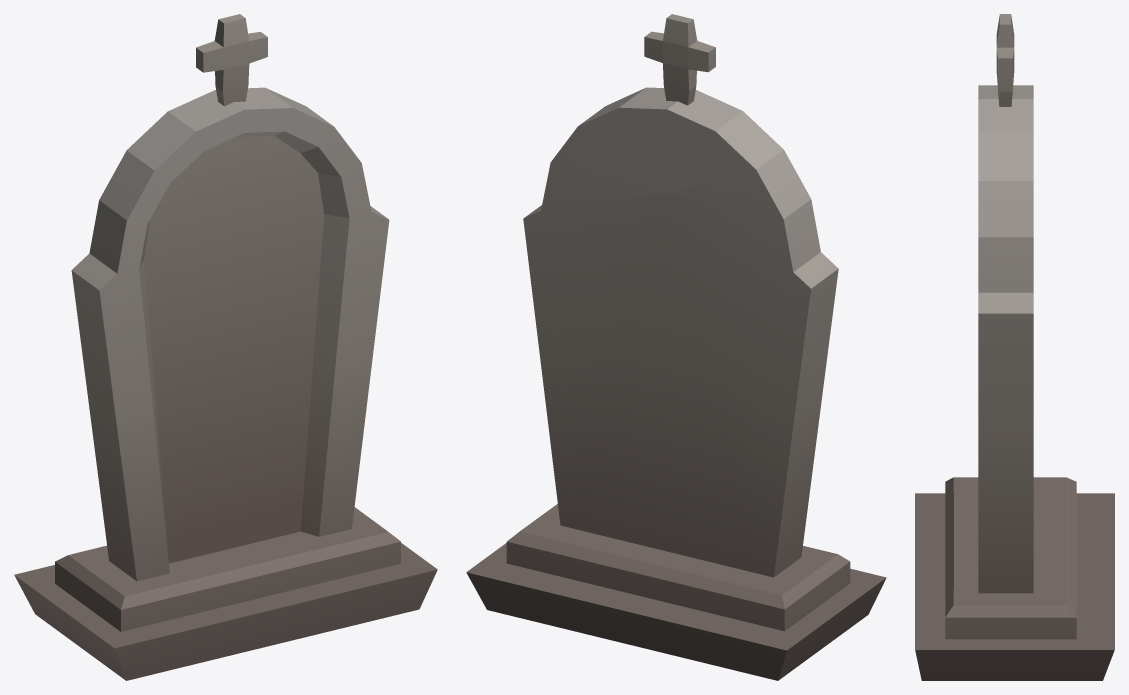
The model's file is gravestone2.glb.
The picture shows the model from 3 angles, left to right: view 1: azimuth 30°, elevation 25°; view 2: azimuth 150°, elevation 25°; view 3: azimuth 270°, elevation 25°; orthographic projection.
Visible parts, largest first — view 1: gravestone2; view 2: gravestone2; view 3: gravestone2.
Part boxes in pixels (x1,y1,x2,y2): gravestone2: (14, 14, 437, 680); gravestone2: (466, 14, 886, 680); gravestone2: (915, 14, 1114, 680).
Size of the model in its own units: 2.21 by 3.9 by 1.19.
1 material, 1 textured.
